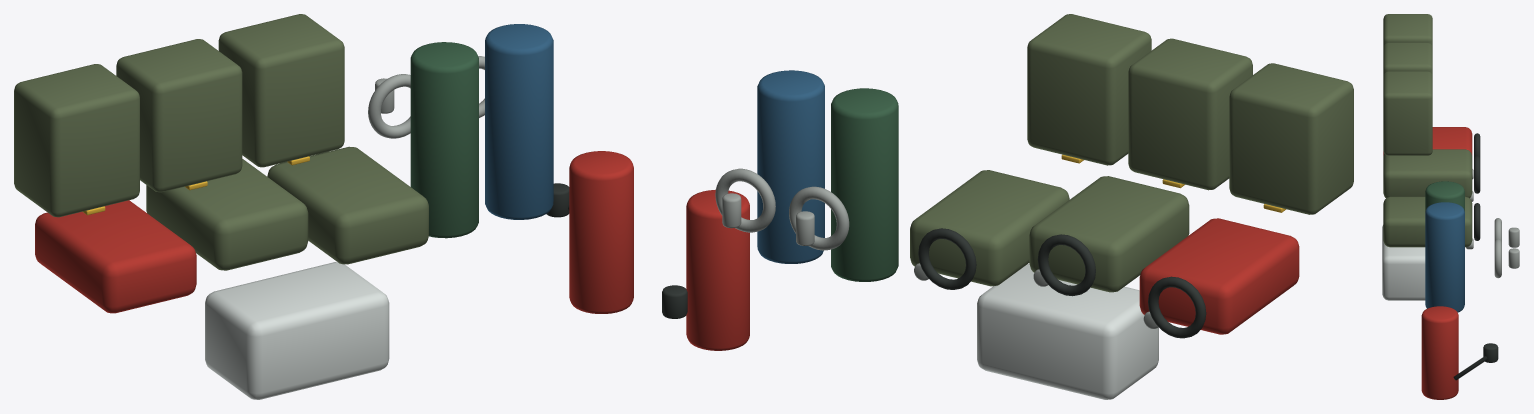
Rendered from survival_clutter_v3.glb.
3 renders of one model, left to right at view 1: azimuth 30°, elevation 25°; view 2: azimuth 150°, elevation 25°; view 3: azimuth 270°, elevation 25°, orthographic. The views are drawn at different scales.
Parts seen in each view (by area): view 1: MedCase, RationCrate_0, RationCrate_1, RationCrate_2, GasBottle_1, JerryCan_0, GasBottle_0, JerryCan_2, JerryCan_1, ExtinguisherBody, GasShoulder_0, ExtinguisherNeck; view 2: MedCase, RationCrate_0, RationCrate_2, RationCrate_1, GasBottle_0, JerryCan_0, JerryCan_1, GasBottle_1, JerryCan_2, ExtinguisherBody, JerryHandle_2, JerryHandle_0 (+6 smaller); view 3: RationCrate_2, GasBottle_1, JerryCan_1, ExtinguisherBody, JerryCan_2, MedCase, RationCrate_1, RationCrate_0, JerryCan_0, GasBottle_0, GasShoulder_1, ExtinguisherNeck (+7 smaller).
Part boxes in pixels (x1,y1,x2,y2): MedCase: [205, 262, 389, 399]; RationCrate_0: [14, 64, 139, 217]; RationCrate_1: [116, 39, 242, 192]; RationCrate_2: [218, 14, 344, 167]; GasBottle_1: [485, 24, 553, 219]; JerryCan_0: [35, 200, 196, 313]; GasBottle_0: [410, 42, 478, 238]; JerryCan_2: [267, 146, 428, 264]; JerryCan_1: [146, 159, 308, 270]; ExtinguisherBody: [569, 151, 633, 313]; GasShoulder_0: [368, 74, 410, 138]; ExtinguisherNeck: [546, 183, 569, 217]; MedCase: [977, 264, 1158, 399]; RationCrate_0: [1229, 63, 1353, 214]; RationCrate_2: [1027, 14, 1151, 165]; RationCrate_1: [1128, 38, 1252, 190]; GasBottle_0: [831, 88, 898, 281]; JerryCan_0: [1139, 218, 1299, 334]; JerryCan_1: [1029, 176, 1189, 292]; GasBottle_1: [757, 70, 824, 263]; JerryCan_2: [910, 170, 1069, 286]; ExtinguisherBody: [686, 189, 749, 350]; JerryHandle_2: [918, 228, 976, 289]; JerryHandle_0: [1148, 276, 1206, 338]; RationCrate_2: [1383, 71, 1432, 155]; GasBottle_1: [1425, 202, 1464, 312]; JerryCan_1: [1383, 149, 1472, 198]; ExtinguisherBody: [1421, 306, 1458, 399]; JerryCan_2: [1383, 196, 1472, 247]; MedCase: [1382, 225, 1425, 300]; RationCrate_1: [1383, 42, 1432, 75]; RationCrate_0: [1383, 14, 1432, 46]; JerryCan_0: [1383, 127, 1472, 155]; GasBottle_0: [1425, 181, 1464, 211]; GasShoulder_1: [1494, 239, 1501, 278]; ExtinguisherNeck: [1483, 343, 1498, 362].
Size of the model in its own units: 3.43 by 1.91 by 1.12.
